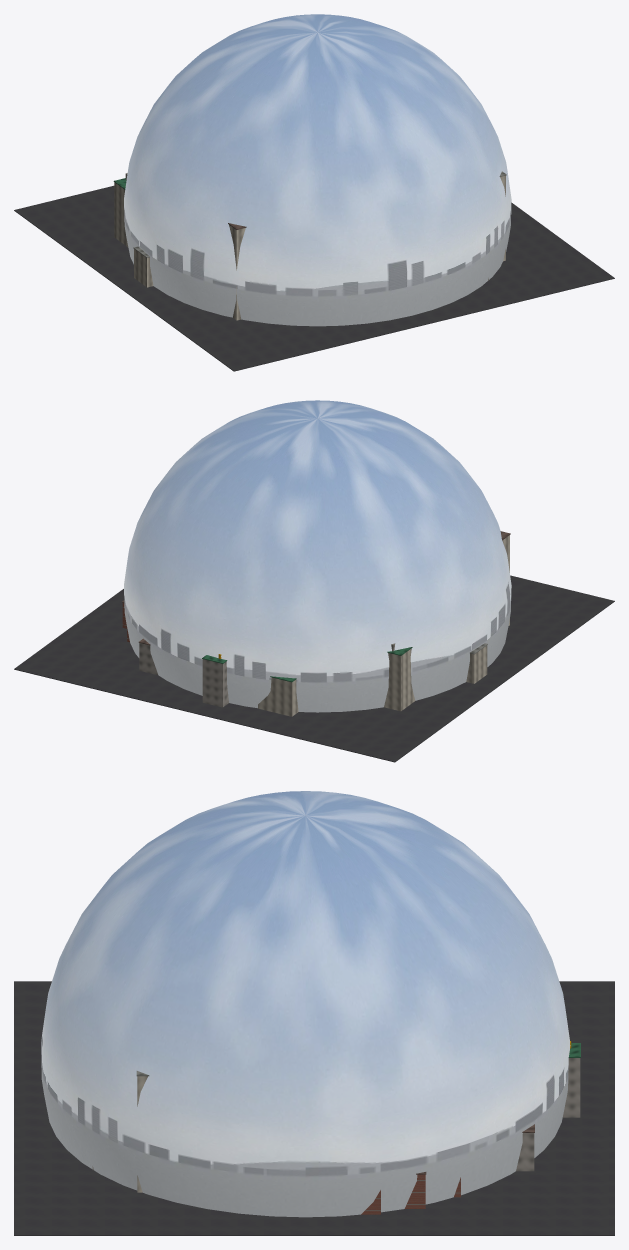
Rendered from prologue_academy.glb.
The picture shows the model from 3 angles, top to bottom: view 1: azimuth 30°, elevation 25°; view 2: azimuth 150°, elevation 25°; view 3: azimuth 270°, elevation 25°; orthographic projection. The views are drawn at different scales.
Visible parts, largest first — view 1: sky_backdrop, far; view 2: sky_backdrop, far; view 3: sky_backdrop, far.
Part boxes in pixels (x1,y1,x2,y2): sky_backdrop: (124, 14, 511, 326); far: (14, 171, 614, 371); sky_backdrop: (124, 400, 511, 712); far: (14, 531, 614, 762); sky_backdrop: (41, 791, 570, 1217); far: (14, 981, 614, 1235).
Bounding box in the file's own units: 136 × 74.92 × 136.
60 materials, 33 textured.
